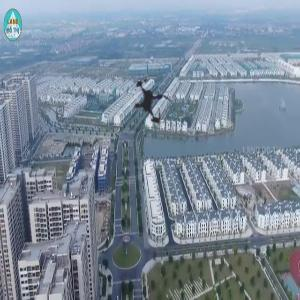drone: (103, 55, 197, 149)
